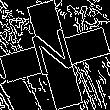N_S: (29, 25, 81, 85)
